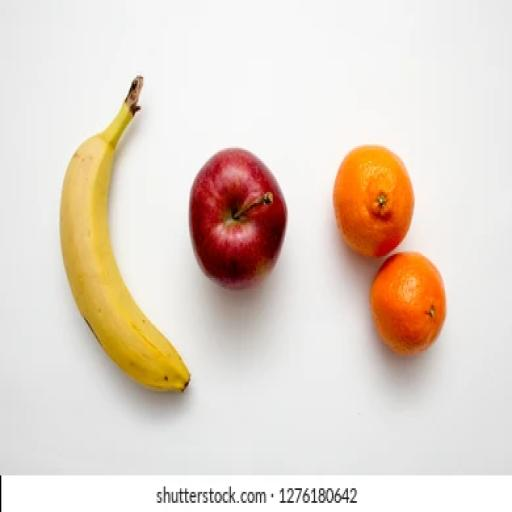apple: (190, 149, 287, 288)
banana: (61, 77, 190, 391)
orange: (333, 145, 414, 257), (371, 253, 446, 354)
